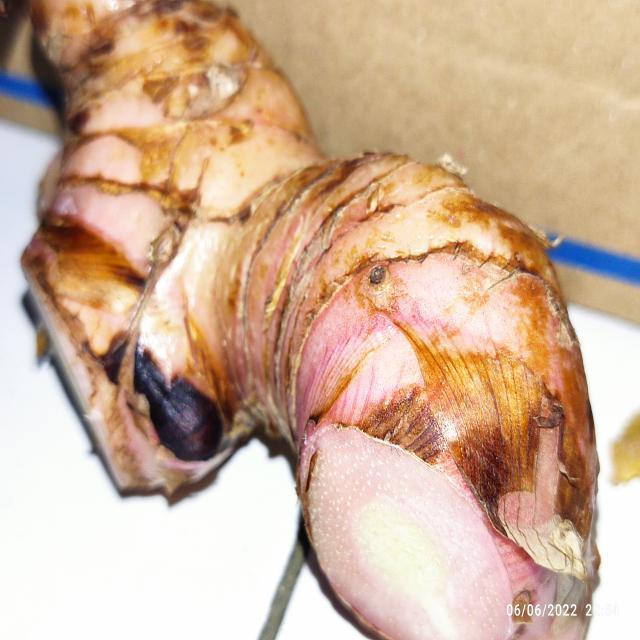ginger: (49, 5, 601, 638)
